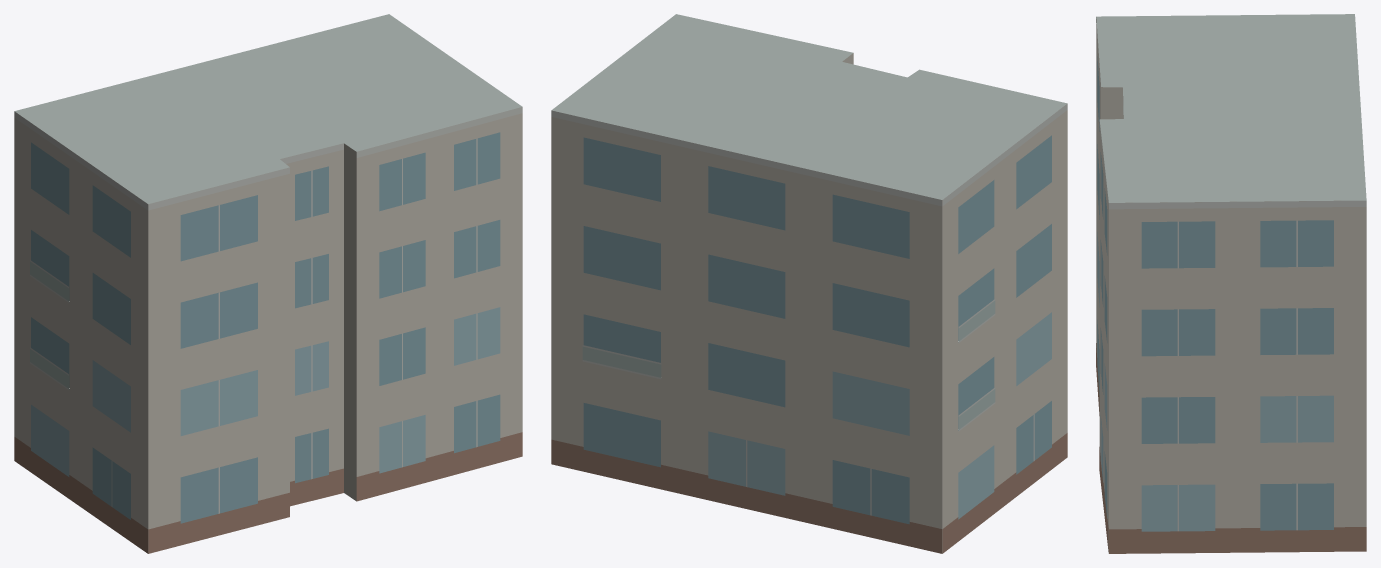
The model's file is survey-upis-33036528.glb.
3 views of the same model, side by side, from view 1: azimuth 30°, elevation 25°; view 2: azimuth 150°, elevation 25°; view 3: azimuth 270°, elevation 25° (orthographic).
Parts seen in each view (by area): view 1: survey-upis-33036528.tmp; view 2: survey-upis-33036528.tmp; view 3: survey-upis-33036528.tmp.
Part boxes in pixels (box(x1,y1,x2,y2)): survey-upis-33036528.tmp: box(14, 14, 522, 553); survey-upis-33036528.tmp: box(551, 14, 1067, 553); survey-upis-33036528.tmp: box(1096, 14, 1366, 553).
Bounding box in the file's own units: 15.58 × 13.48 × 9.42.
